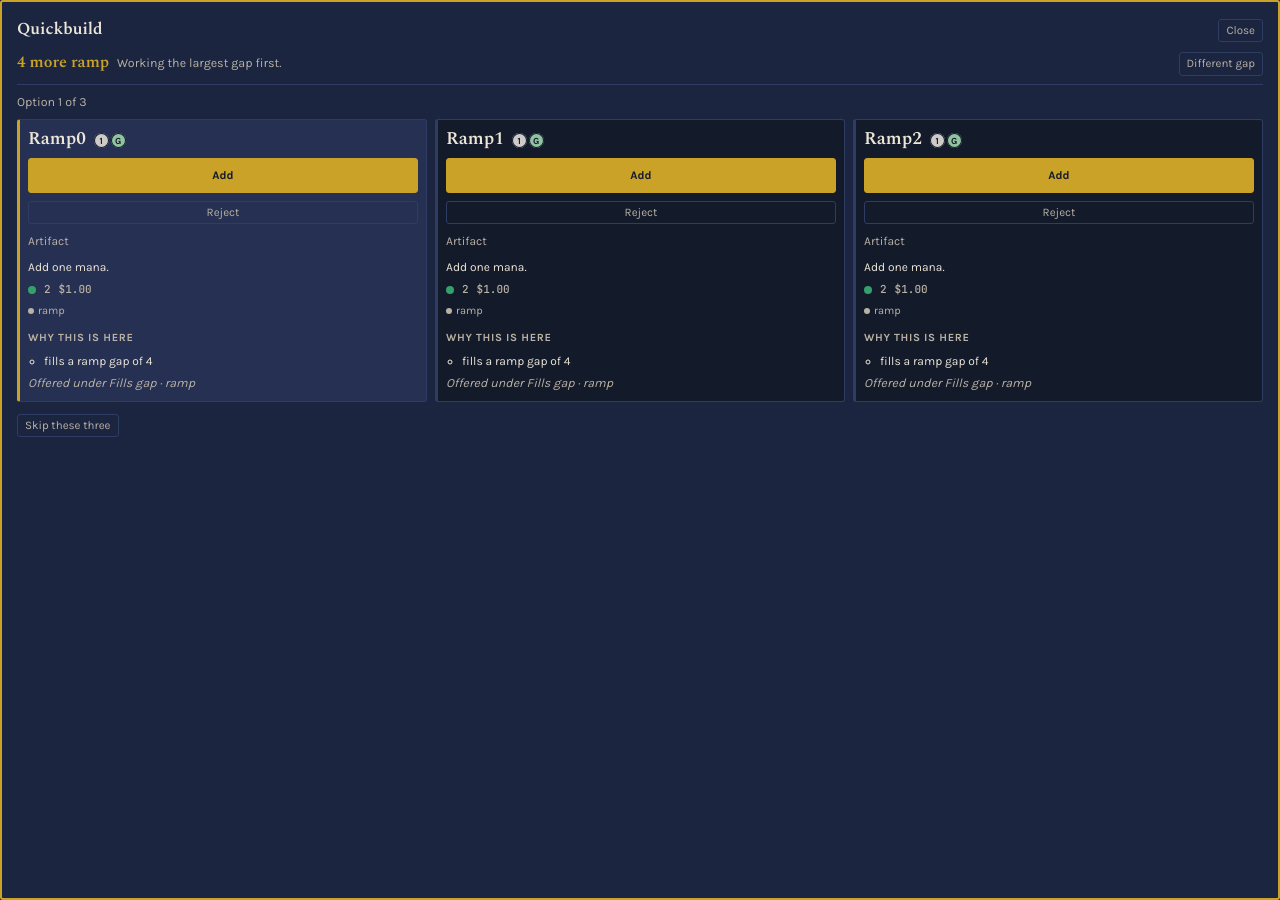
it: the queue is discarded on the instant the question changes › empties immediately when the gap changes, before any new answer lands
Expected: the heading "Ramp0" is shown, x1=28 y1=128 x2=86 y2=150
Click the button "Different gap": (1221, 64) x1=1178 y1=52 x2=1263 y2=76
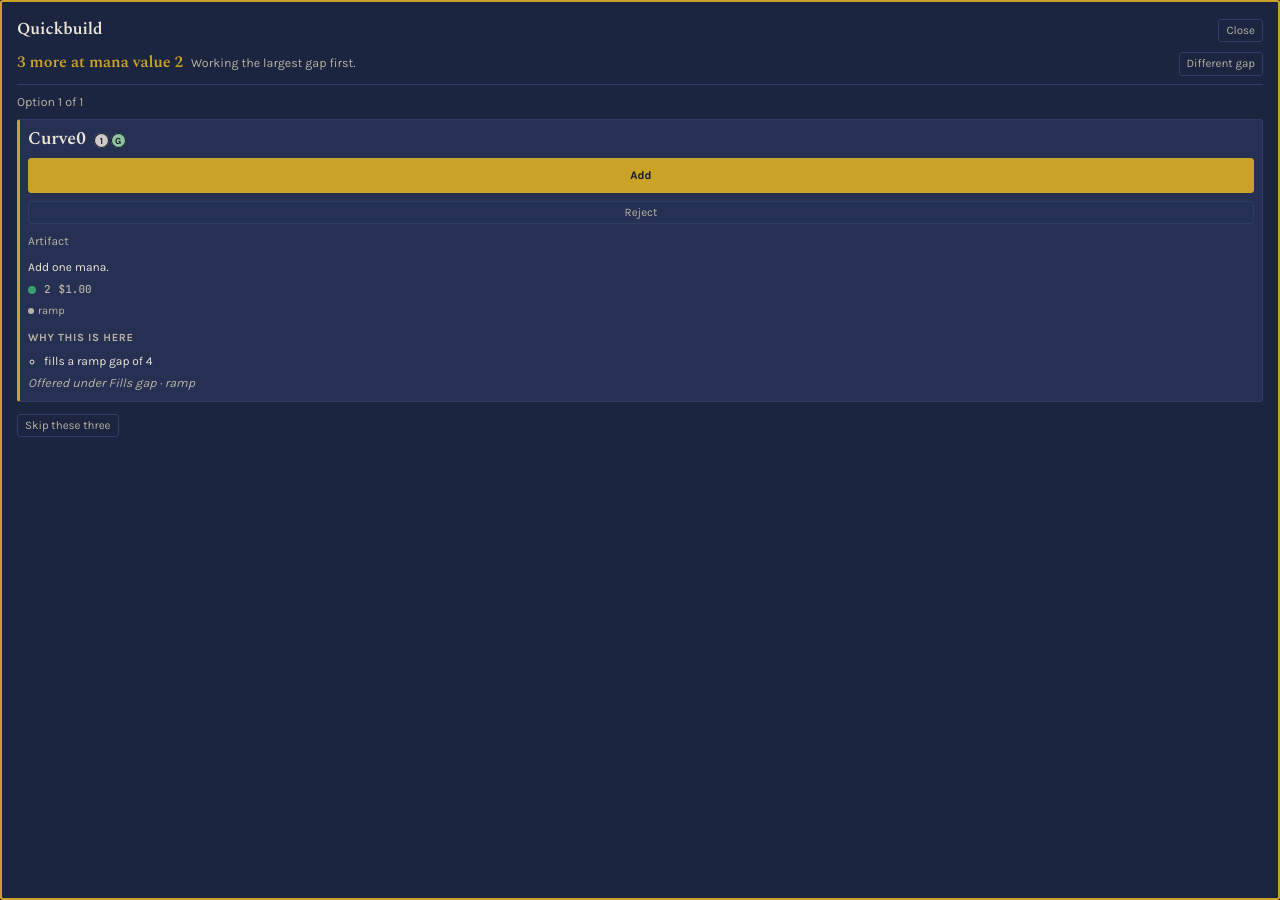
Expected: the heading "Ramp0" is gone
Expected: the heading "Ramp1" is gone
Expected: the heading "Curve0" is shown, x1=28 y1=128 x2=86 y2=150
